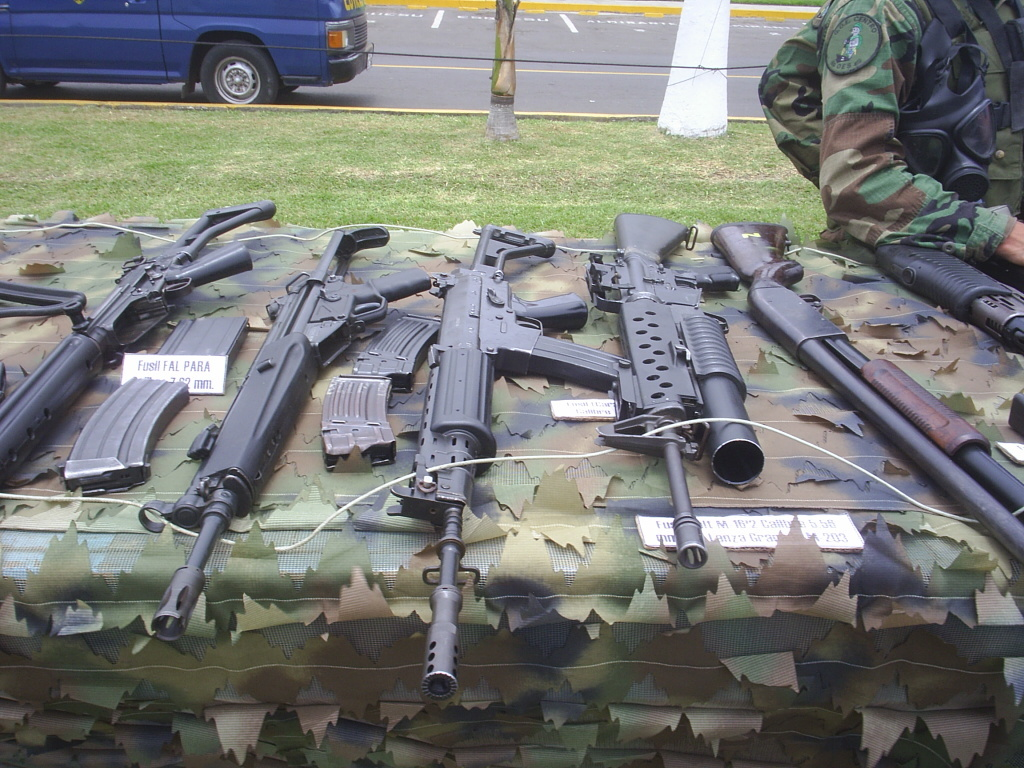rifle: (154, 223, 398, 645), (737, 196, 915, 652), (409, 221, 567, 696), (595, 200, 753, 675)
